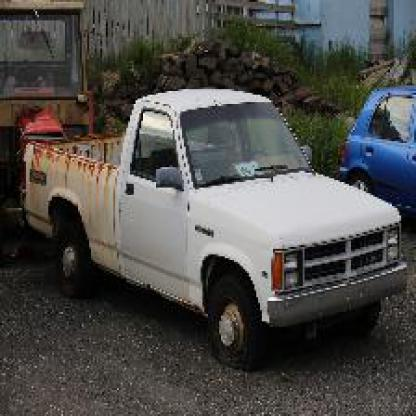not_emergency: (15, 87, 414, 346)
